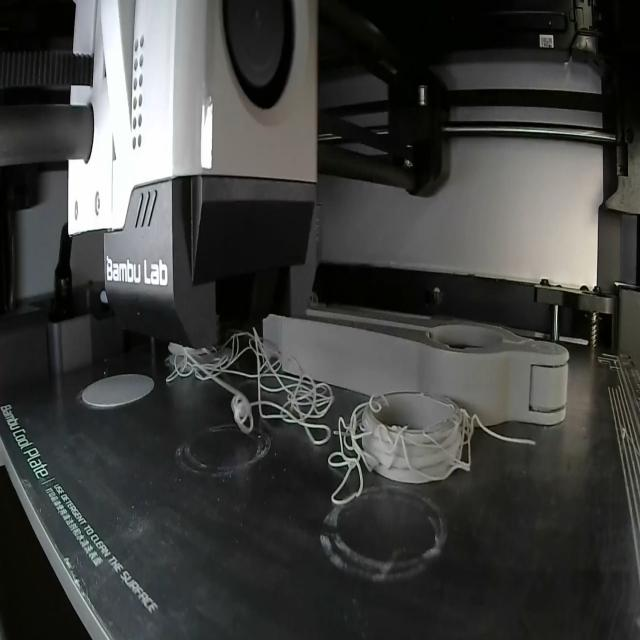spaghetti: (320, 379, 536, 511), (167, 332, 329, 456)
